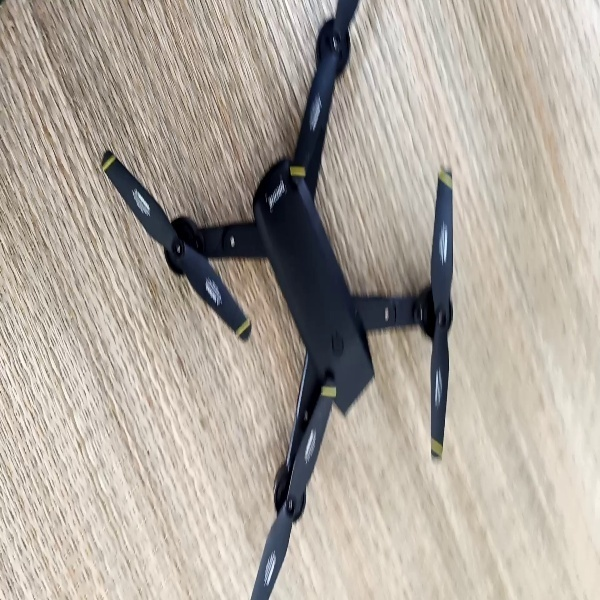drone: (100, 2, 459, 600)
